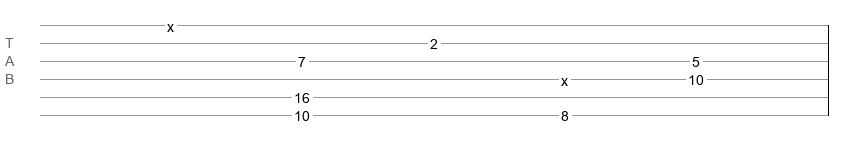10: (294, 108, 310, 118), (688, 72, 704, 82)
16: (294, 90, 310, 100)
2: (430, 36, 438, 46)
5: (692, 54, 700, 64)
7: (298, 54, 306, 64)
8: (561, 108, 569, 118)
x: (167, 19, 174, 27), (561, 73, 568, 81)
